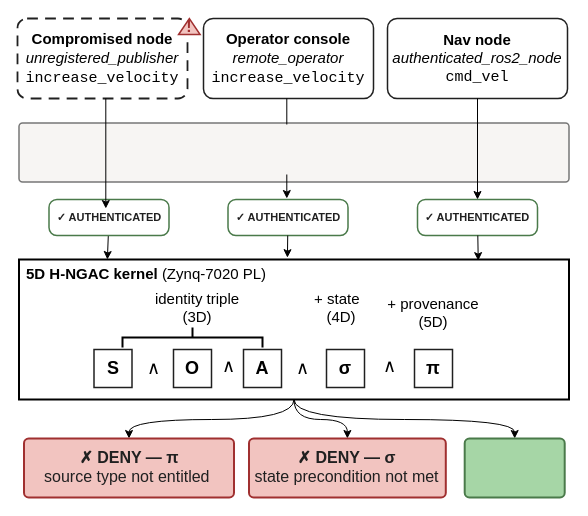
Some shapes in this 588 by 516 pixel diagram are drawn without their labels. Each missing label, with the box of its shape:
DDS / SROS2 transport authenticates identity: (177, 124, 387, 174)
✓ PERMIT: (463, 437, 565, 498)
